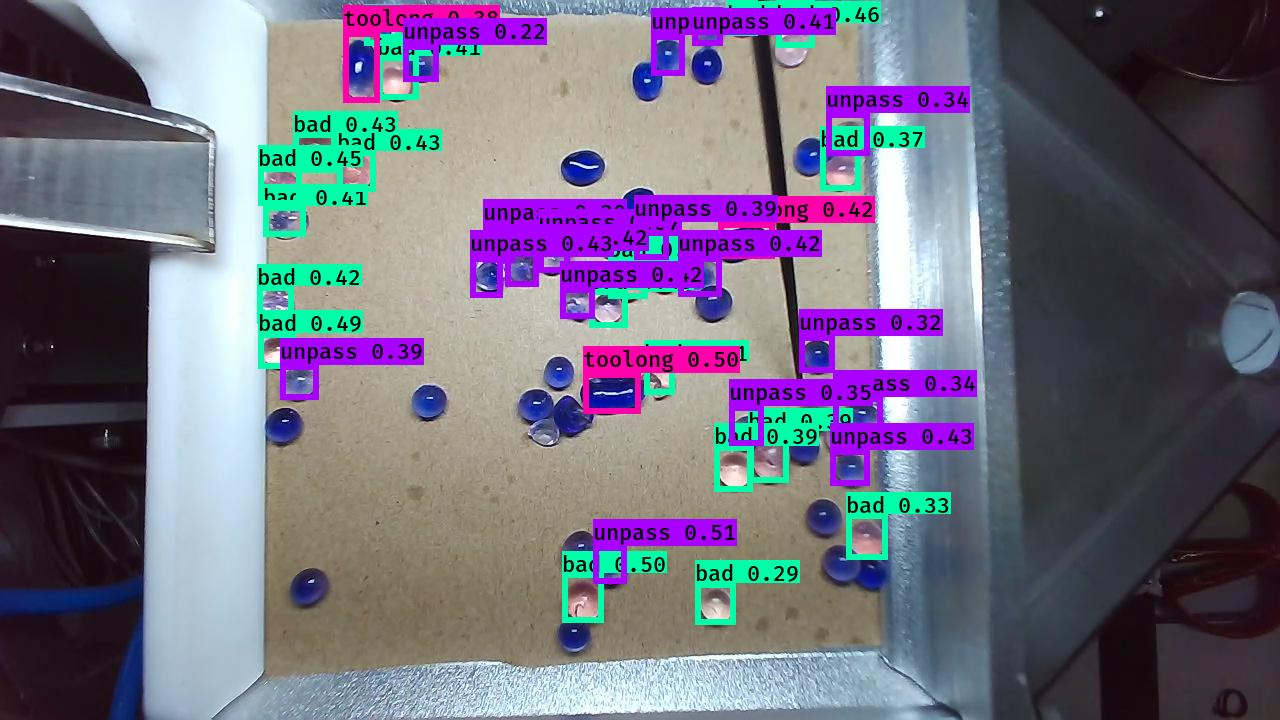bad: (751, 435, 794, 483), (559, 577, 605, 621), (297, 128, 341, 173), (336, 149, 379, 194), (846, 518, 892, 559), (259, 169, 306, 209), (695, 585, 736, 629), (608, 258, 649, 297), (365, 10, 404, 49), (644, 250, 680, 292), (269, 205, 313, 238), (714, 452, 751, 491), (774, 30, 811, 69), (258, 288, 295, 326), (794, 398, 835, 432), (824, 155, 861, 191), (642, 363, 675, 399), (591, 293, 624, 329), (260, 334, 295, 367), (379, 67, 412, 102), (780, 1, 815, 32), (527, 420, 558, 448)
defact: (595, 215, 627, 260)
pass: (559, 149, 605, 190), (263, 408, 306, 449), (287, 568, 330, 609), (820, 540, 861, 583), (553, 395, 592, 439), (411, 382, 452, 423), (694, 283, 734, 323), (559, 526, 595, 569), (806, 500, 845, 539), (555, 614, 593, 654), (621, 188, 659, 227), (793, 135, 827, 178), (515, 390, 555, 425), (540, 354, 575, 393), (630, 62, 663, 102), (785, 429, 820, 466), (690, 45, 722, 85)
toolong: (579, 375, 645, 415), (342, 40, 381, 103), (714, 223, 771, 262)
unpass: (824, 121, 870, 168), (680, 256, 720, 296), (537, 236, 575, 277), (277, 364, 319, 401), (502, 249, 540, 289), (725, 414, 766, 451), (799, 338, 835, 380), (842, 398, 881, 436), (402, 44, 439, 84), (594, 543, 627, 587), (693, 7, 728, 48), (832, 451, 870, 487), (469, 258, 504, 296), (822, 422, 862, 455), (627, 222, 660, 259), (649, 31, 680, 70), (484, 225, 517, 261), (561, 285, 590, 322)
